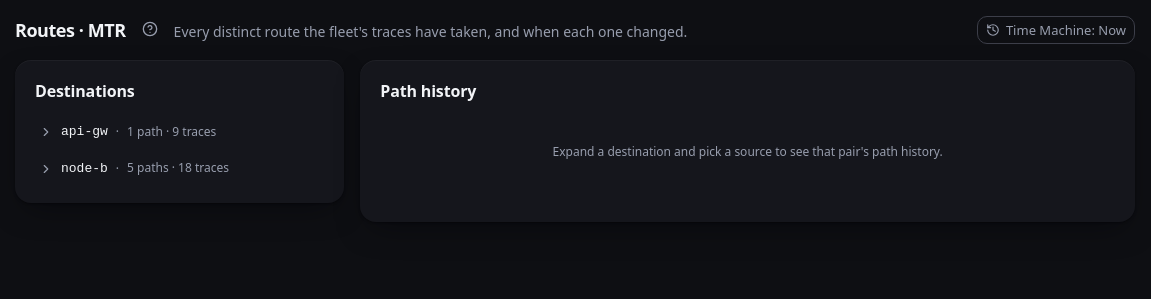
MTRPage — destinations pane › renders one group per destination with its sources and counts
Click the button "node-b · 5 paths · 18 traces" at point(180, 169), box [35,154,324,183]
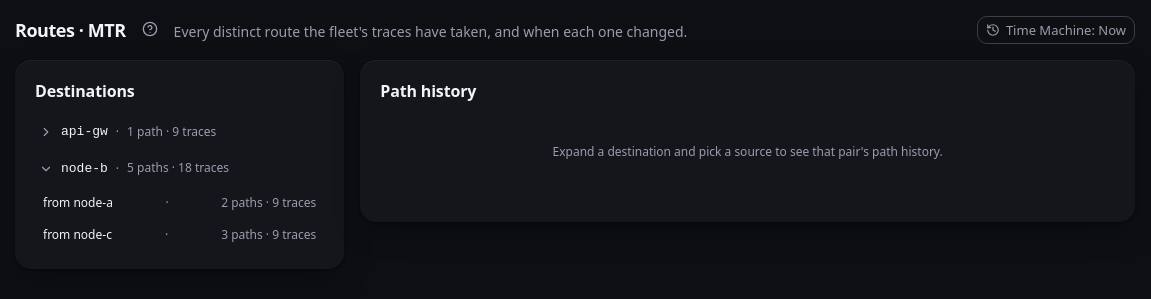
Click the button "api-gw · 1 path · 9 traces" at point(180, 132), box [35,118,324,146]
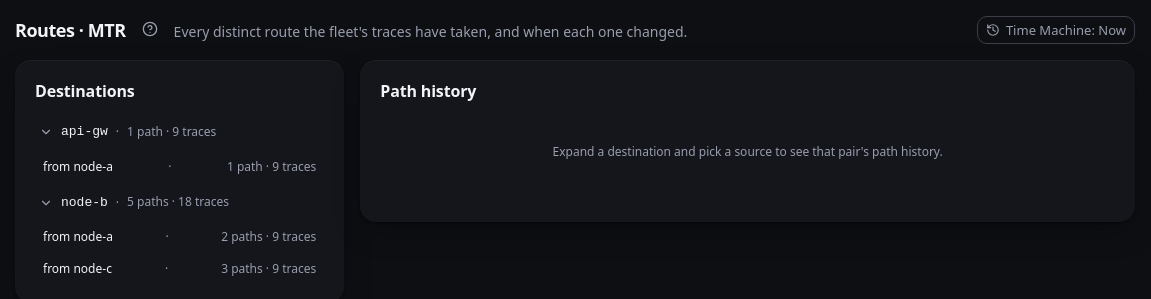
Expected: the button "node-b · 5 paths · 18 traces" is shown, [35,188,324,217]
Result: the number of lists is 2 at [35,152,324,180]; [35,223,324,283]
